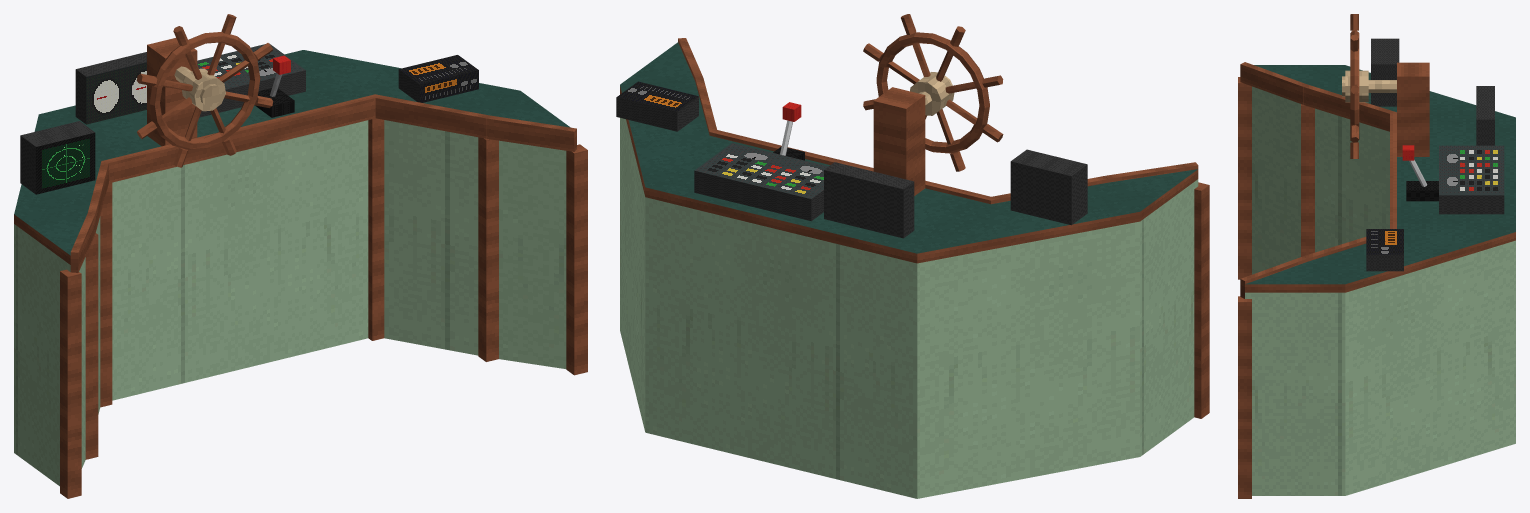
Rendered from Console_Vaporetto.glb.
3 renders of one model, left to right at view 1: azimuth 30°, elevation 25°; view 2: azimuth 150°, elevation 25°; view 3: azimuth 270°, elevation 25°, orthographic. The views are drawn at different scales.
Parts seen in each view (by area): view 1: Console, WheelMesh; view 2: Console, WheelMesh; view 3: Console, WheelMesh.
Boxes of the visible parts, x1,y1,x2,y2 form: Console: [14, 38, 587, 498]; WheelMesh: [136, 14, 273, 167]; Console: [616, 38, 1209, 498]; WheelMesh: [863, 14, 1003, 171]; Console: [1238, 38, 1515, 498]; WheelMesh: [1342, 14, 1368, 158].
Bounding box in the file's own units: 2.28 × 1.59 × 1.19.
Materials: 6 (6 with a texture image).
